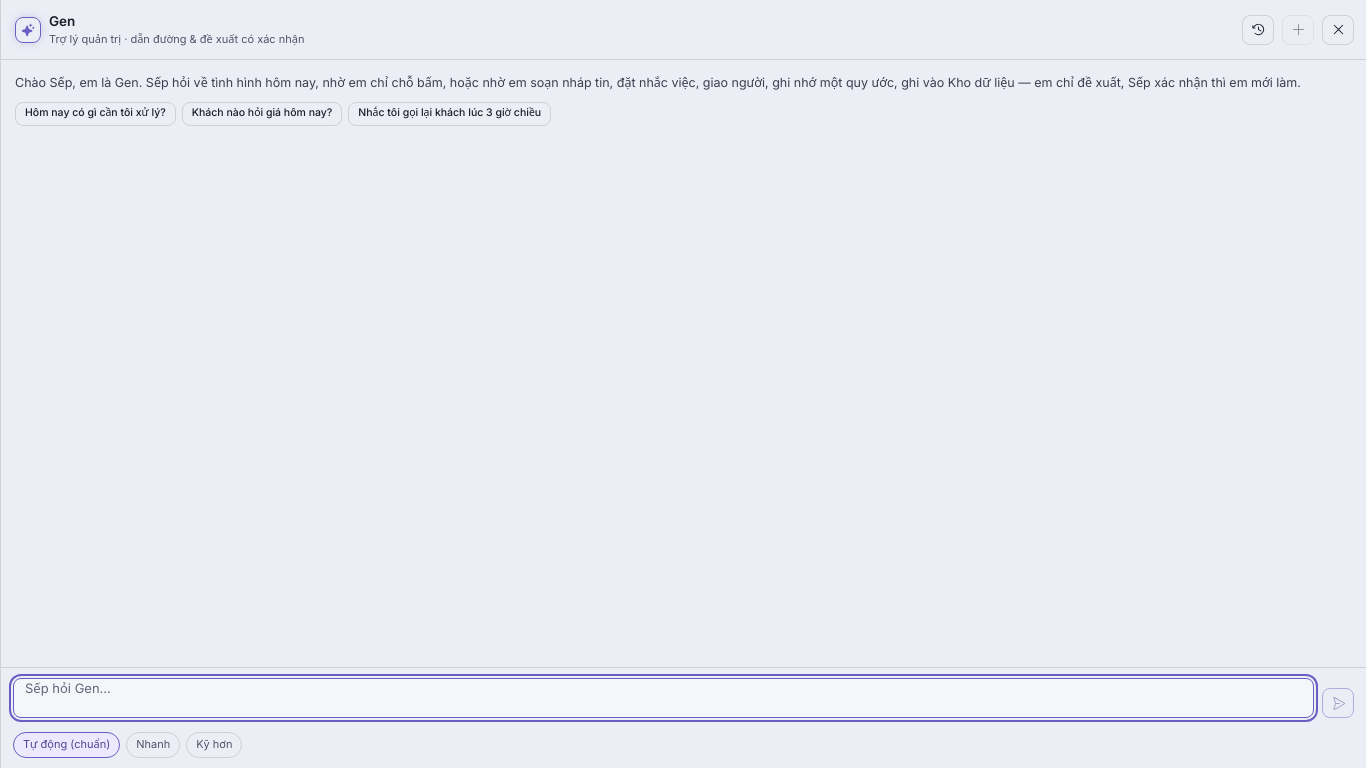
Test: Hội thoại cũ (F-8a) › Gen đang trả lời ⇒ có dòng giải thích vì sao các dòng bị khoá
Click the button named "Hội thoại cũ": x=1258, y=30 [1242, 15, 1274, 45]
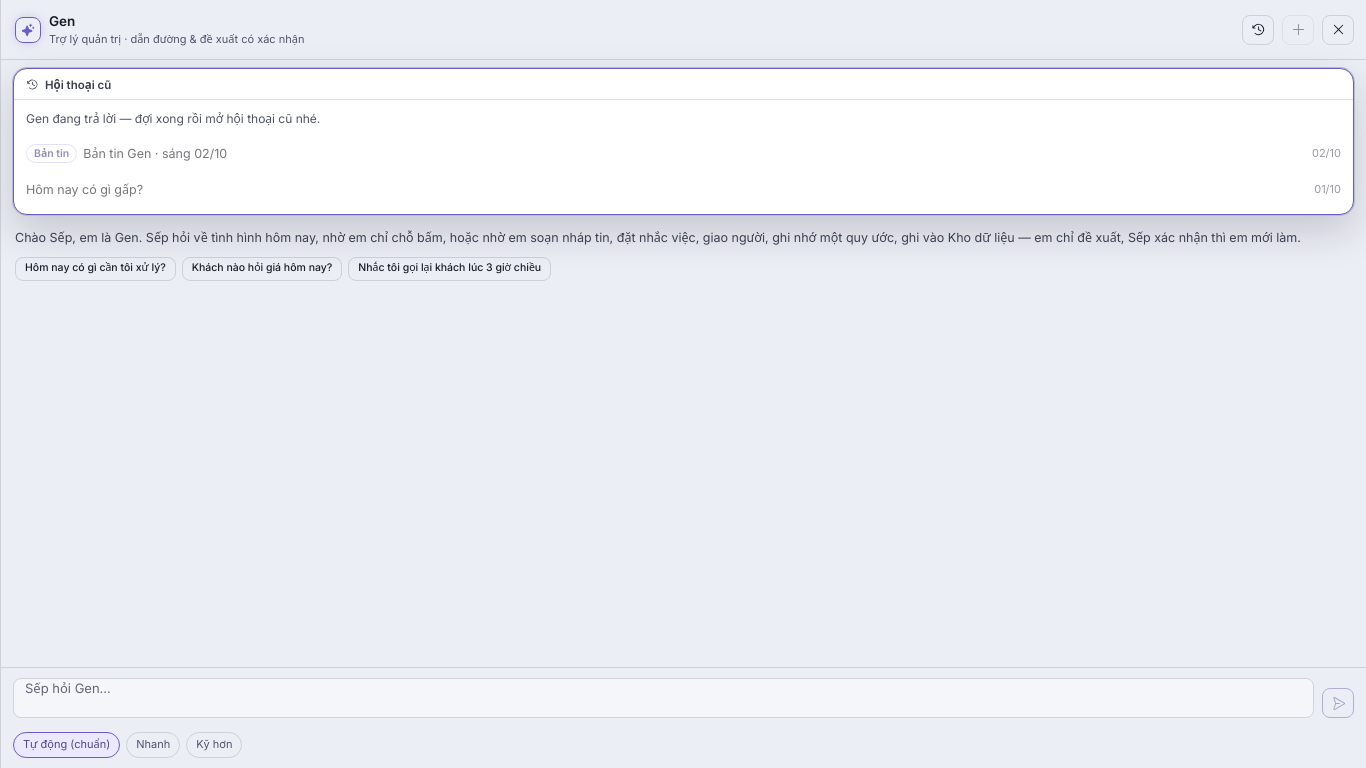
Expected: the message with test id "gen-history-busy" reads "Gen đang trả lời — đợi xong rồi mở hội thoại cũ nhé.", [26, 111, 320, 126]
Expected: the button "Bản tin Bản tin Gen · sáng 02/10 02/10" is disabled, [14, 136, 1353, 172]
Expected: the button "Hôm nay có gì gấp? 01/10" is disabled, [14, 172, 1353, 208]
